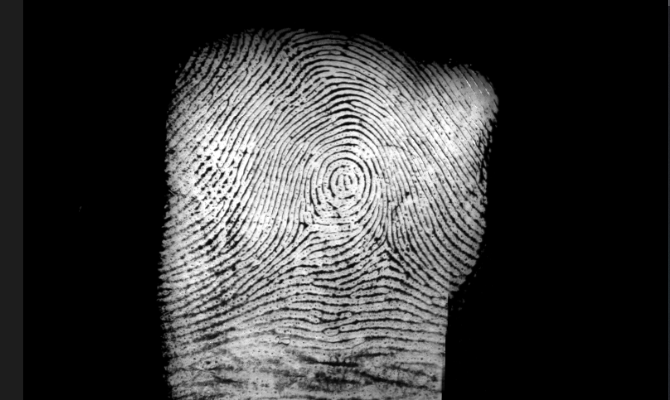nucelo: (327, 165, 360, 199)
verticilo: (370, 228, 400, 256), (293, 206, 322, 233)
